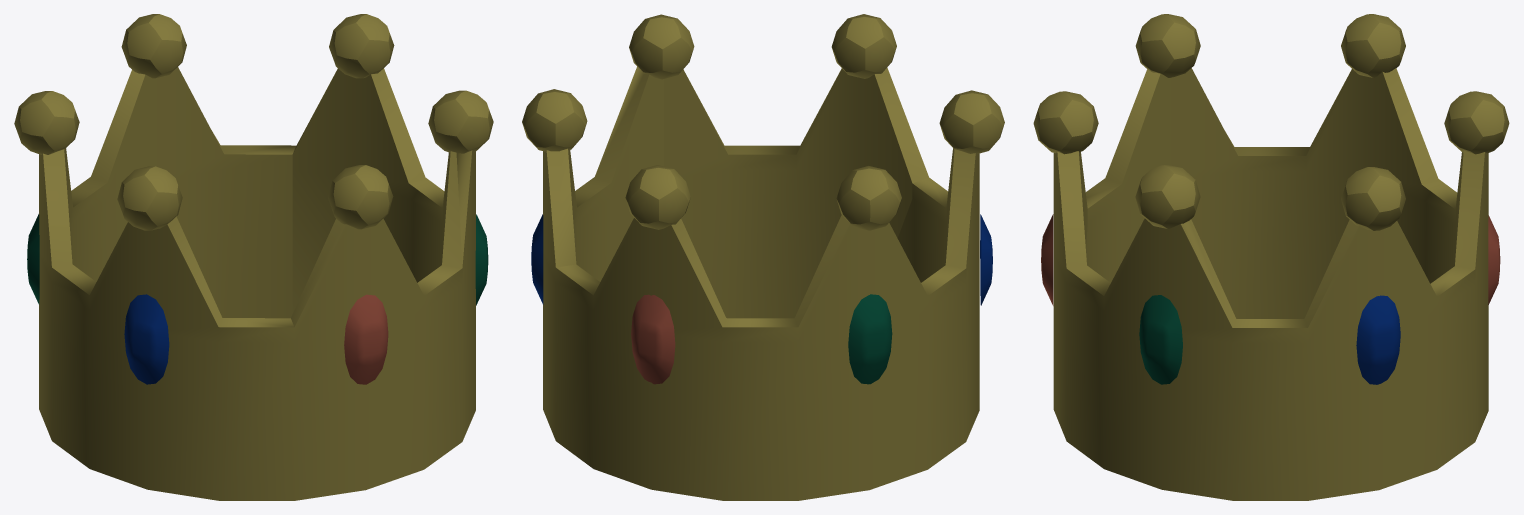
File: GoldCrown.fbx
3 renders of one model, left to right at view 1: azimuth 30°, elevation 25°; view 2: azimuth 150°, elevation 25°; view 3: azimuth 270°, elevation 25°, orthographic.
Visible parts, largest first — view 1: Crown, Sapphire1, Ball4, Ruby, Ball2, Ball, Ball1, Ball3, Ball5, Emerald, Emerald1; view 2: Crown, Ruby1, Emerald, Ball3, Ball1, Ball5, Ball, Ball4, Ball2, Sapphire1, Sapphire; view 3: Crown, Ball2, Sapphire, Ball5, Ball, Ball1, Ball4, Emerald1, Ball3, Ruby, Ruby1.
Part boxes in pixels (bbox=[...]): Crown: bbox=[39, 67, 475, 500]; Sapphire1: bbox=[124, 294, 169, 384]; Ball4: bbox=[117, 166, 182, 230]; Ruby: bbox=[344, 294, 388, 384]; Ball2: bbox=[329, 14, 394, 78]; Ball: bbox=[328, 165, 393, 229]; Ball1: bbox=[121, 14, 186, 78]; Ball3: bbox=[14, 91, 79, 154]; Ball5: bbox=[428, 90, 493, 153]; Emerald: bbox=[27, 214, 39, 304]; Emerald1: bbox=[475, 214, 488, 305]; Crown: bbox=[543, 66, 979, 500]; Ruby1: bbox=[631, 294, 675, 384]; Emerald: bbox=[848, 294, 892, 384]; Ball3: bbox=[836, 166, 901, 230]; Ball1: bbox=[625, 165, 690, 229]; Ball5: bbox=[629, 14, 694, 79]; Ball: bbox=[831, 14, 896, 78]; Ball4: bbox=[939, 90, 1004, 154]; Ball2: bbox=[522, 89, 587, 151]; Sapphire1: bbox=[980, 214, 992, 305]; Sapphire: bbox=[531, 214, 543, 304]; Crown: bbox=[1053, 68, 1488, 500]; Ball2: bbox=[1341, 167, 1405, 230]; Sapphire: bbox=[1356, 295, 1400, 384]; Ball5: bbox=[1135, 165, 1200, 228]; Ball: bbox=[1033, 91, 1098, 154]; Ball1: bbox=[1444, 91, 1509, 154]; Ball4: bbox=[1135, 14, 1200, 77]; Emerald1: bbox=[1139, 295, 1182, 384]; Ball3: bbox=[1341, 14, 1405, 77]; Ruby: bbox=[1041, 214, 1053, 305]; Ruby1: bbox=[1488, 215, 1500, 305].
Size of the model in its own units: 1.97 by 1.61 by 2.19.
